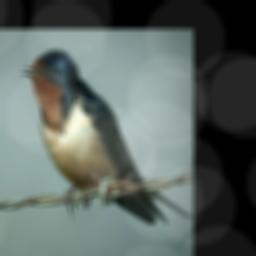Swallow: (20, 48, 193, 224)
